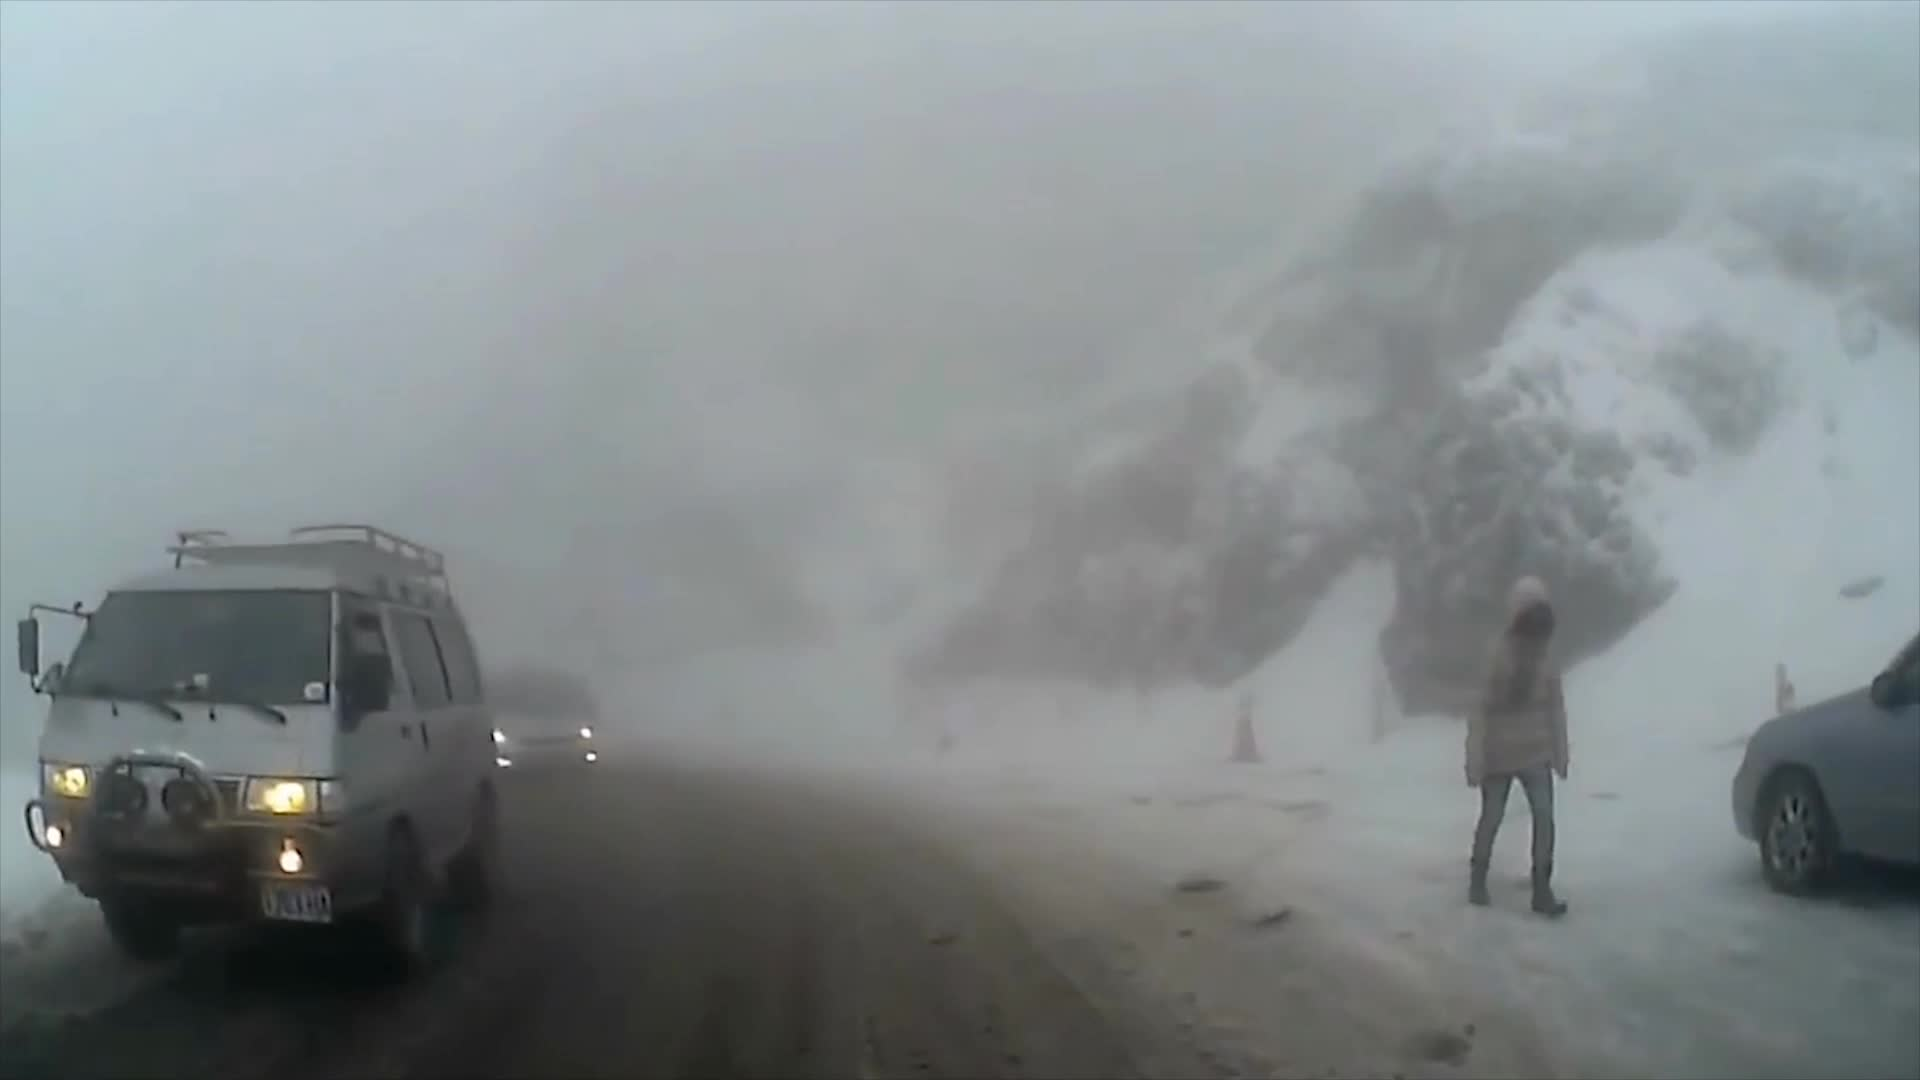pedestrian: (1456, 576, 1570, 919)
vehicle: (12, 520, 501, 983), (1729, 631, 1920, 913), (445, 669, 600, 787)
